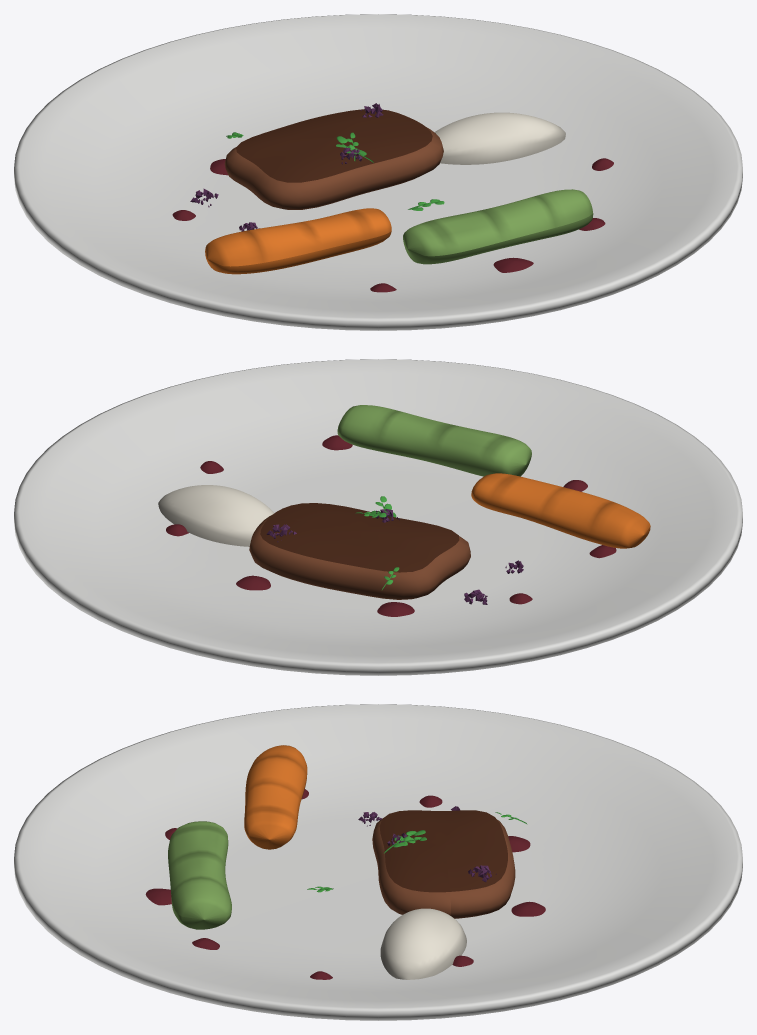
File: garden-scatter.gltf
3 renders of one model, top to bottom at view 1: azimuth 30°, elevation 25°; view 2: azimuth 150°, elevation 25°; view 3: azimuth 270°, elevation 25°, orthographic.
Visible parts, largest first — view 1: plate, Seared duck breast crust, Charred baby leek, Confit carrot, Seared duck breast, Celeriac puree; view 2: plate, Seared duck breast crust, Charred baby leek, Confit carrot, Seared duck breast, Celeriac puree; view 3: plate, Seared duck breast crust, Charred baby leek, Confit carrot, Celeriac puree, Seared duck breast.
Part boxes in pixels (<box>): plate: <box>14,14,742,330</box>; Seared duck breast crust: <box>236,109,432,182</box>; Charred baby leek: <box>403,189,593,264</box>; Confit carrot: <box>205,208,391,274</box>; Seared duck breast: <box>224,127,443,209</box>; Celeriac puree: <box>434,112,565,164</box>; plate: <box>14,359,742,675</box>; Seared duck breast crust: <box>260,503,459,572</box>; Charred baby leek: <box>337,405,531,476</box>; Confit carrot: <box>471,473,650,548</box>; Seared duck breast: <box>249,515,470,599</box>; Celeriac puree: <box>158,485,274,546</box>; plate: <box>14,704,742,1020</box>; Seared duck breast crust: <box>379,810,507,892</box>; Charred baby leek: <box>168,821,231,929</box>; Confit carrot: <box>244,745,307,849</box>; Celeriac puree: <box>380,908,466,979</box>; Seared duck breast: <box>372,819,515,918</box>.
Size of the model in its own units: 2 by 0.1709 by 2.
